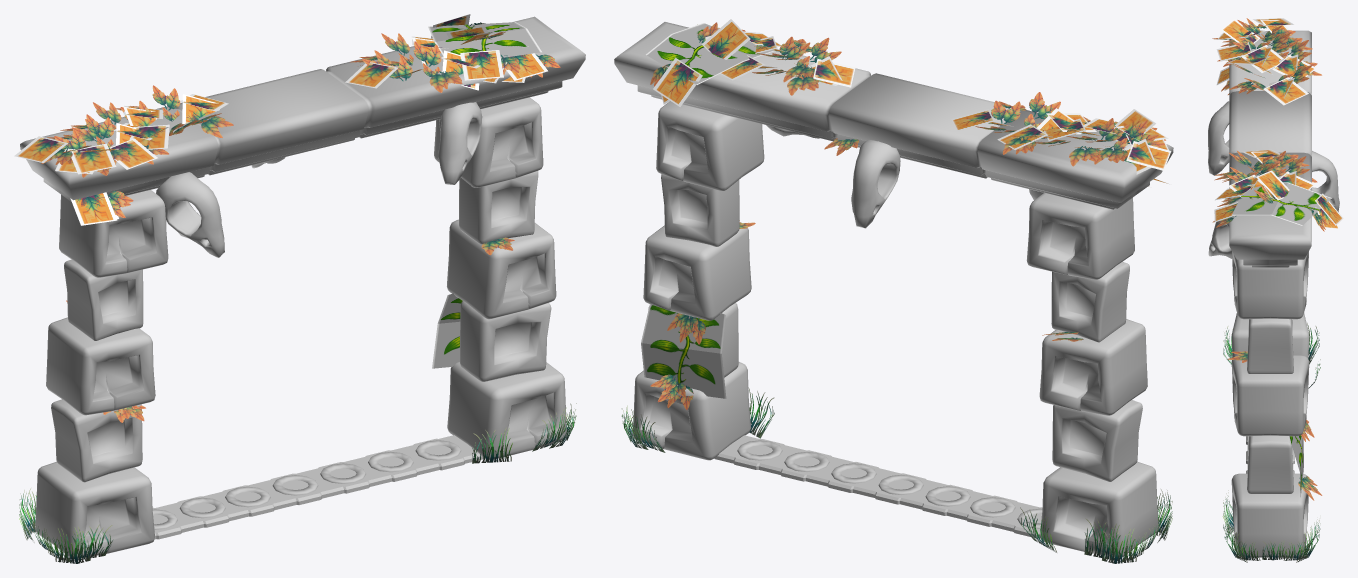
The model's file is SM_SpikeGateOuter.fbx.
3 renders of one model, left to right at view 1: azimuth 30°, elevation 25°; view 2: azimuth 150°, elevation 25°; view 3: azimuth 270°, elevation 25°, orthographic. The views are drawn at different scales.
Parts seen in each view (by area): view 1: SpikeGateOuterMesh; view 2: SpikeGateOuterMesh; view 3: SpikeGateOuterMesh.
Boxes of the visible parts, x1,y1,x2,y2 form: SpikeGateOuterMesh: [14, 14, 585, 563]; SpikeGateOuterMesh: [614, 19, 1173, 563]; SpikeGateOuterMesh: [1208, 18, 1343, 562].
Size of the model in its own units: 1165 by 881 by 313.
